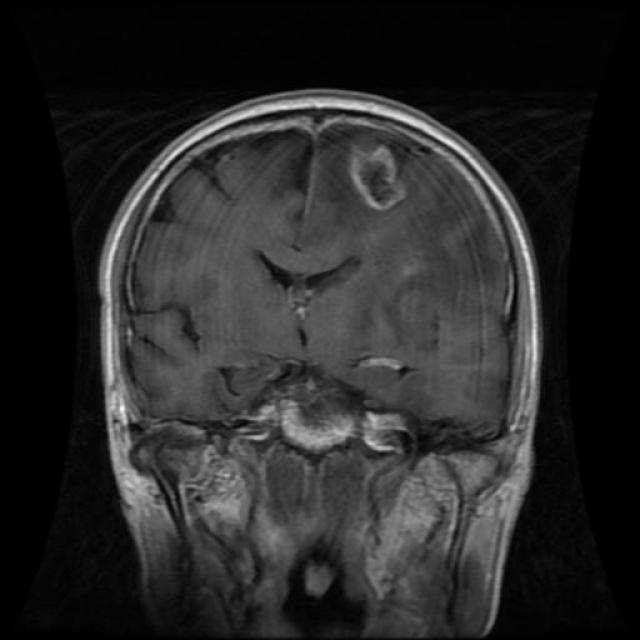glioma: (347, 140, 408, 212)
